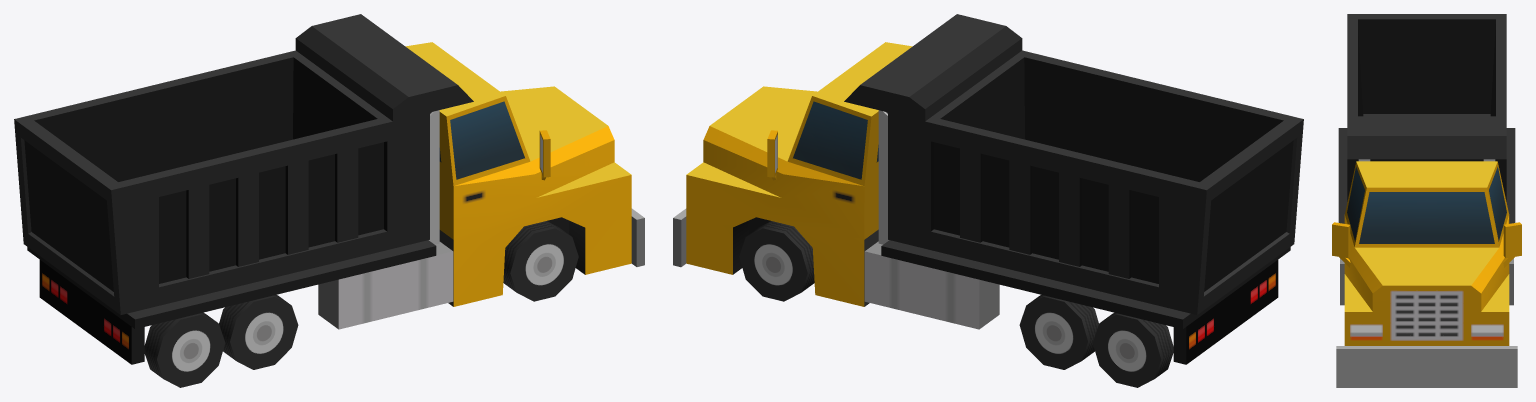
Rendered from Construction_008.glb.
3 renders of one model, left to right at view 1: azimuth 30°, elevation 25°; view 2: azimuth 150°, elevation 25°; view 3: azimuth 270°, elevation 25°, orthographic. The views are drawn at different scales.
Parts seen in each view (by area): view 1: Construction_008, wheel_1_Construction_008_Wheel_1R, wheel_5_Construction_008_Wheel_3R, wheel_3_Construction_008_Wheel_2R; view 2: Construction_008, wheel_0_Construction_008_Wheel_1L, wheel_4_Construction_008_Wheel_3L, wheel_2_Construction_008_Wheel_2L; view 3: Construction_008.
Part boxes in pixels (x1=…): Construction_008: x1=14, y1=14, x2=644, y2=364; wheel_1_Construction_008_Wheel_1R: x1=503, y1=221, x2=578, y2=301; wheel_5_Construction_008_Wheel_3R: x1=144, y1=312, x2=225, y2=387; wheel_3_Construction_008_Wheel_2R: x1=219, y1=295, x2=298, y2=369; Construction_008: x1=673, y1=14, x2=1303, y2=364; wheel_0_Construction_008_Wheel_1L: x1=739, y1=221, x2=814, y2=301; wheel_4_Construction_008_Wheel_3L: x1=1092, y1=312, x2=1173, y2=387; wheel_2_Construction_008_Wheel_2L: x1=1019, y1=295, x2=1098, y2=369; Construction_008: x1=1332, y1=14, x2=1521, y2=387.
Bounding box in the file's own units: 5.57 × 2.36 × 2.12.
Materials: 1 (1 with a texture image).
